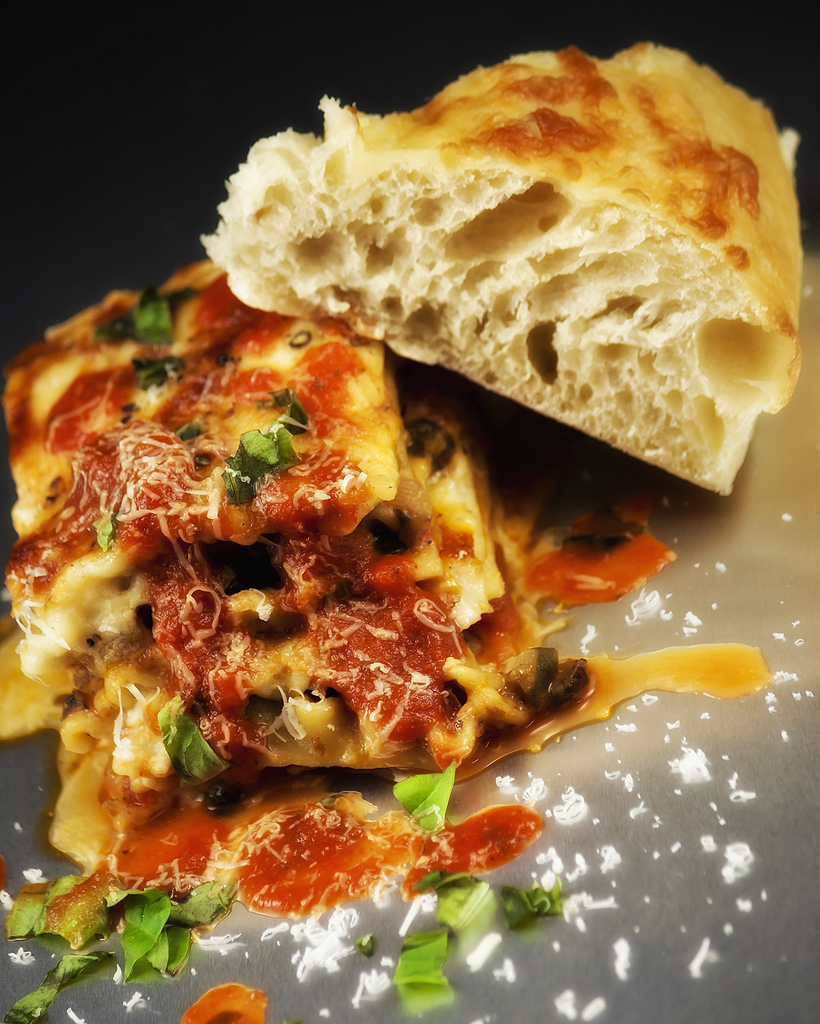slice of bread: (189, 52, 810, 521)
